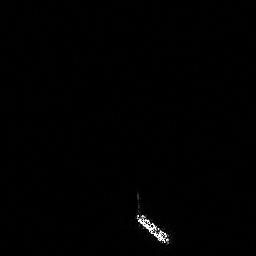ship: (136, 212, 169, 244)
